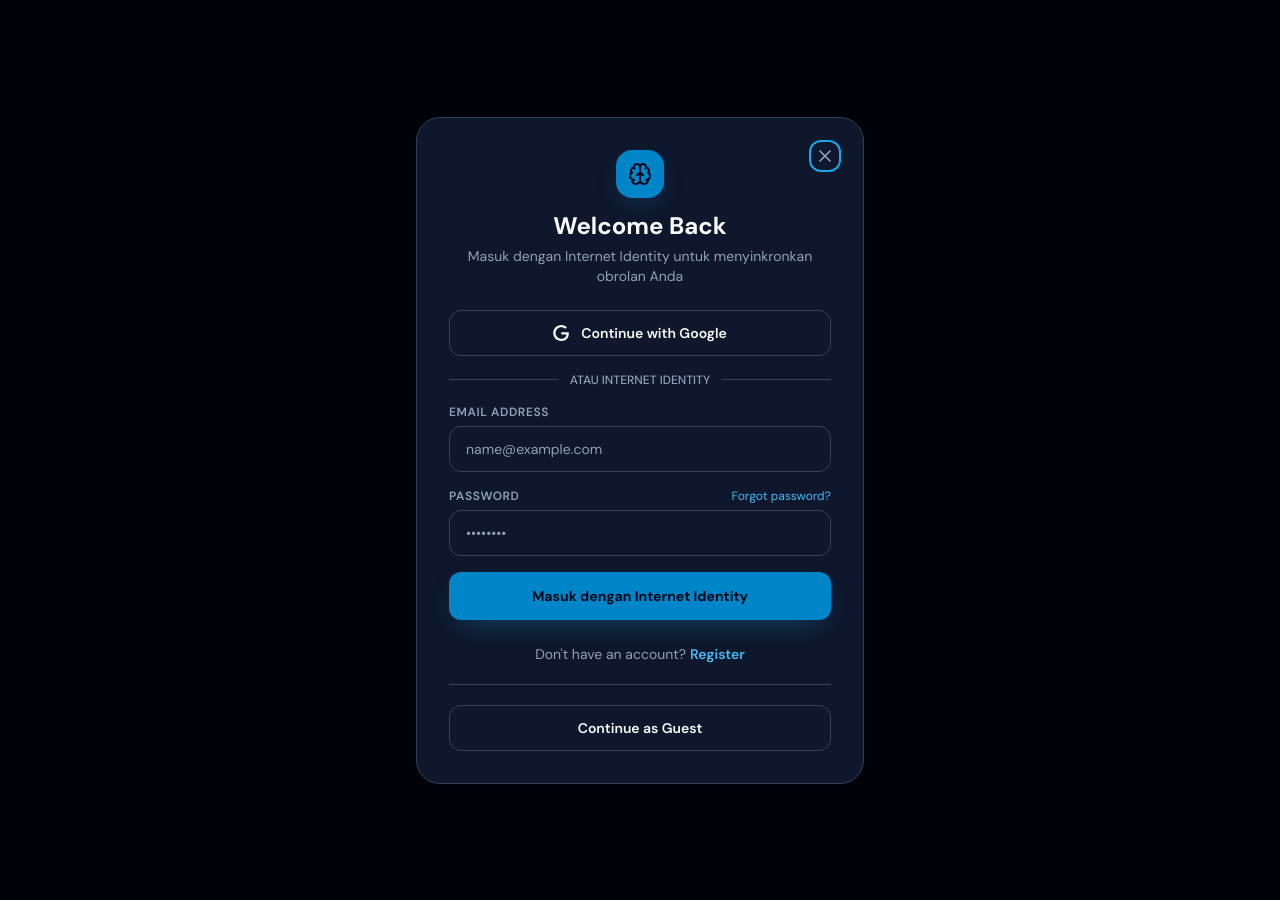
Test: AuthModal › switches to register mode and reveals the optional full name field
Click the button with test id "auth.switch_register_button". click: (717, 654)
box: x1=690 y1=644 x2=745 y2=664
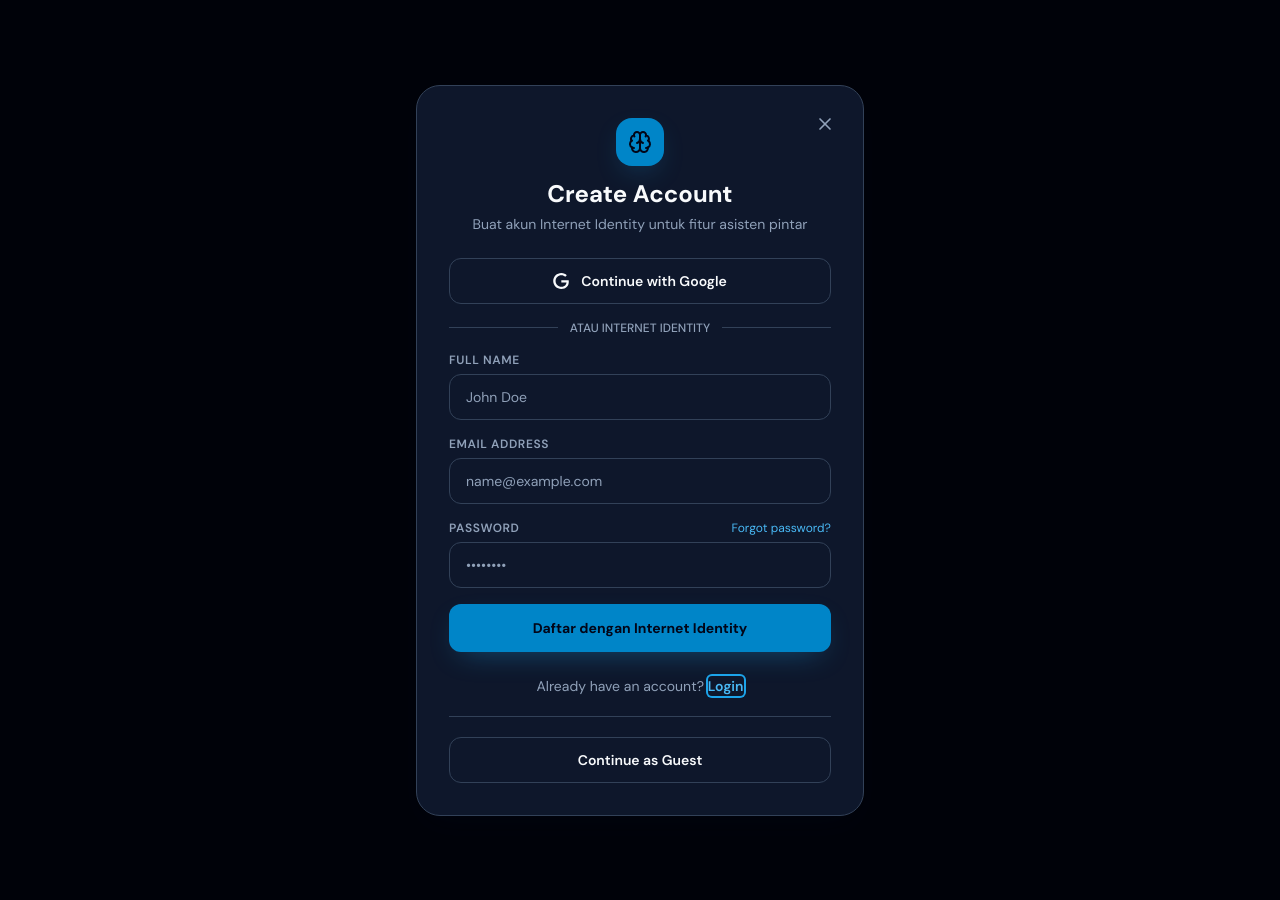
Expected: the heading with test id "auth.title" reads "Create Account", x1=547 y1=178 x2=733 y2=208
Expected: the field with test id "auth.name_input" is shown, x1=449 y1=374 x2=831 y2=420
Expected: the button with test id "auth.submit_button" reads "Daftar dengan Internet Identity", x1=449 y1=604 x2=831 y2=652
